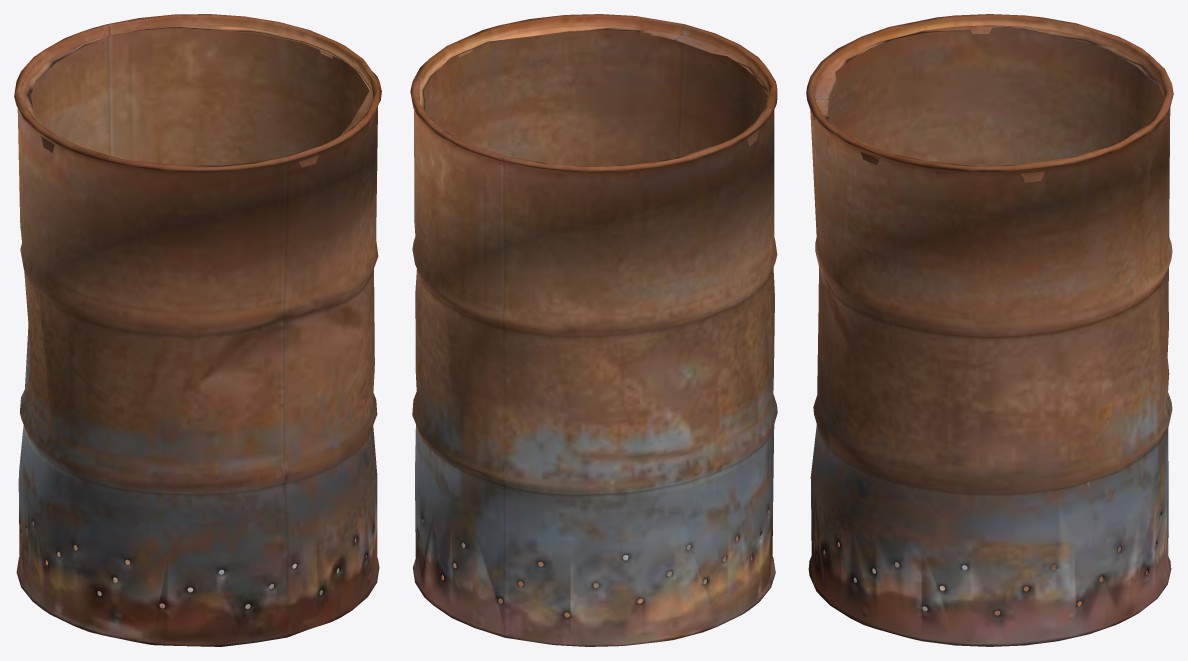
Rendered from barrel_stove_lod1.glb.
3 renders of one model, left to right at view 1: azimuth 30°, elevation 25°; view 2: azimuth 150°, elevation 25°; view 3: azimuth 270°, elevation 25°, orthographic.
Visible parts, largest first — view 1: barrel_stove; view 2: barrel_stove; view 3: barrel_stove.
Part boxes in pixels (box(x1,y1,x2,y2)): barrel_stove: box(14, 14, 381, 646); barrel_stove: box(410, 14, 777, 646); barrel_stove: box(806, 14, 1173, 646).
Size of the model in its own units: 0.5902 by 0.8556 by 0.5926.
Materials: 1 (1 with a texture image).
